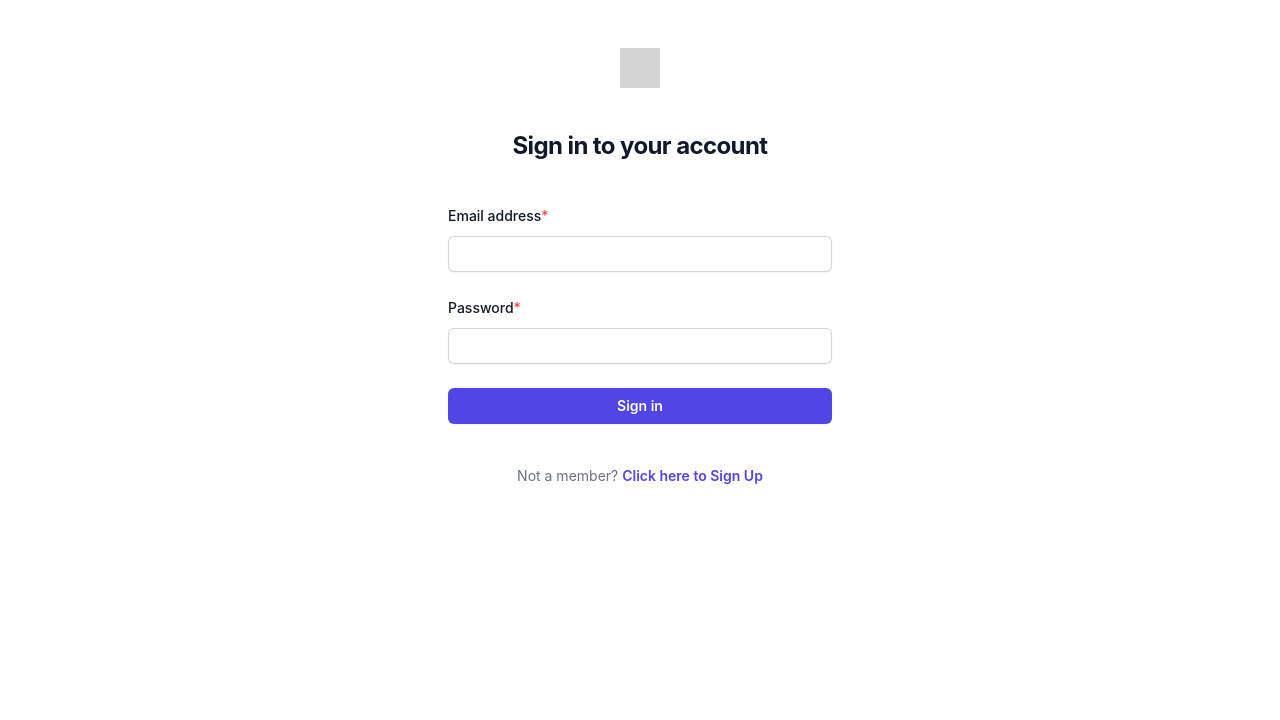
Login Page › should show an error message for invalid login
The width and height of the screenshot is (1280, 720).
Type "wrong@example.com" into the field named "email" at (640, 254), box [448,236,832,272]
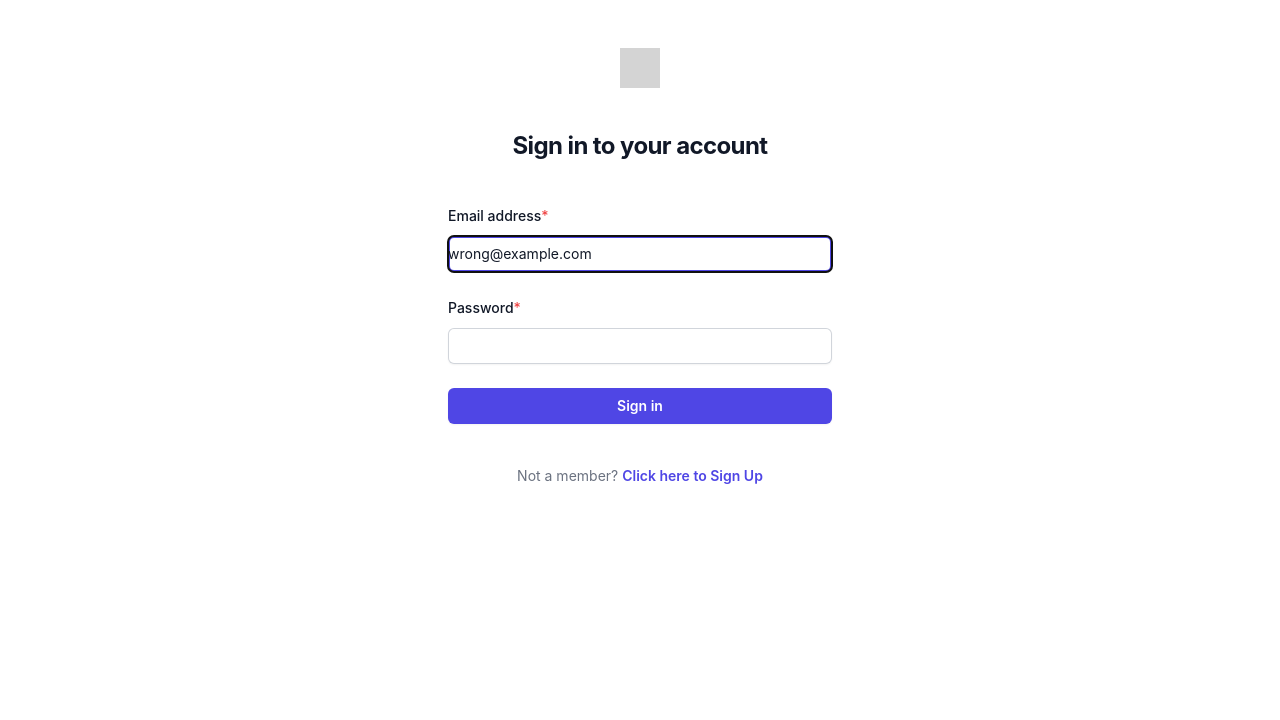
Type "wrongpassword" into the password field named "password" at (640, 346), box [448,328,832,364]
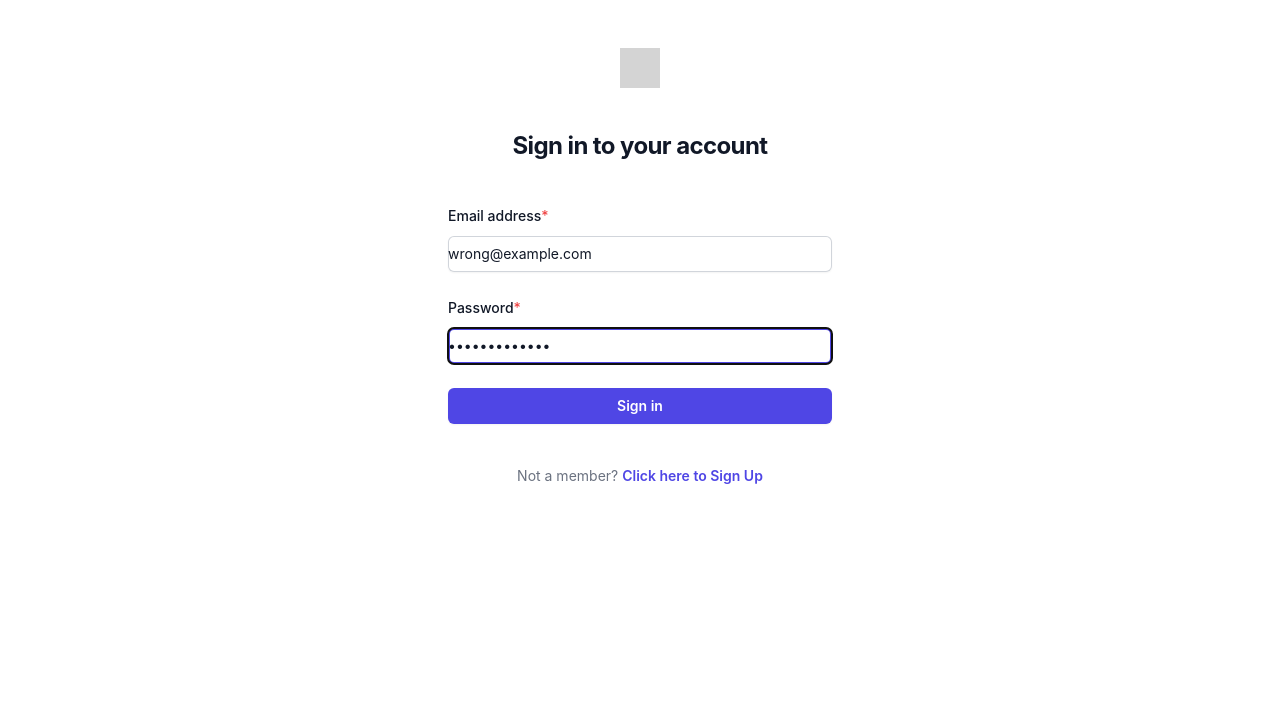
Click the submit button at (640, 406), box [448,388,832,424]
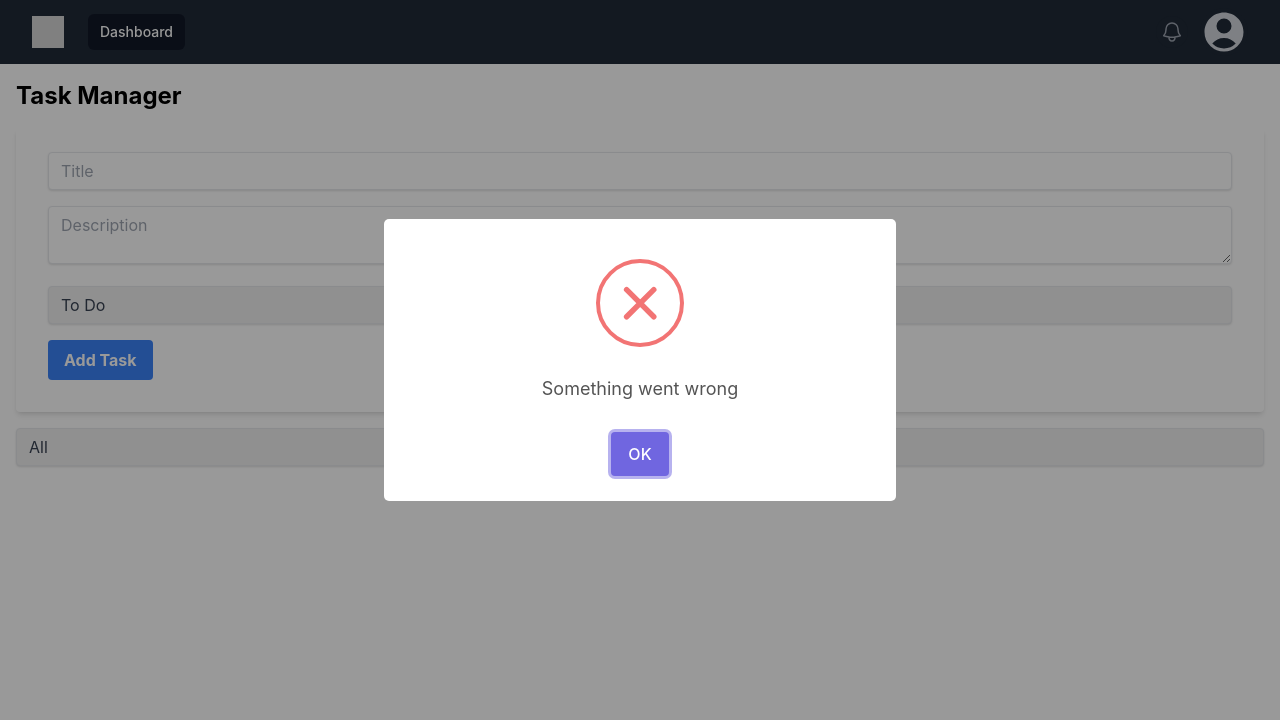
Now the text "Something went wrong" is shown, box [542,378,738,399]
